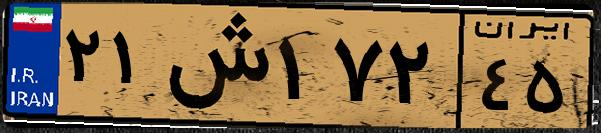1: (270, 28, 330, 110), (110, 28, 158, 98)
2: (385, 28, 445, 110), (57, 26, 110, 100)
4: (475, 38, 525, 113)
5: (525, 38, 570, 115)
7: (330, 28, 385, 110)
ش: (158, 12, 270, 120)
